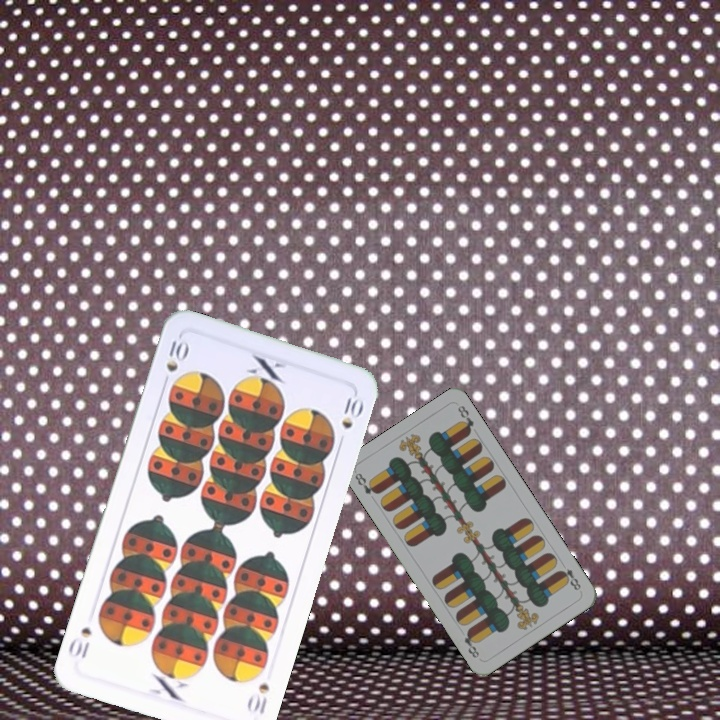E8: (555, 564, 584, 593), (351, 469, 381, 497)
S10: (162, 332, 190, 375), (243, 679, 272, 718)
